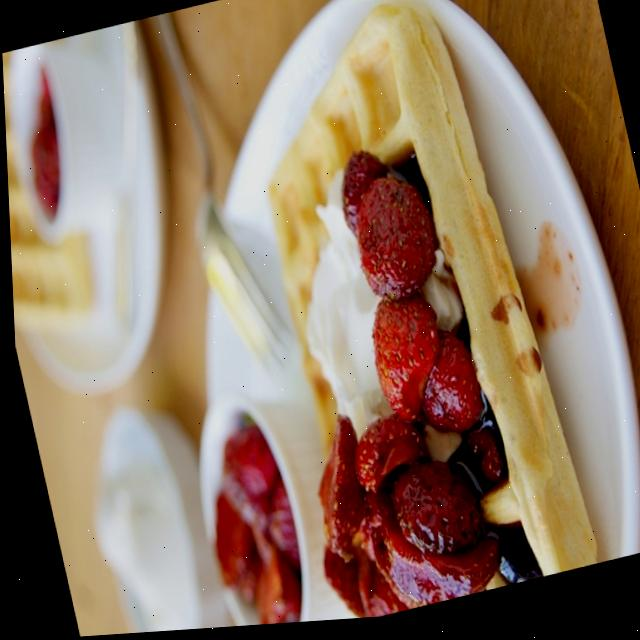炸货点心: (9, 0, 640, 640)
蛋糕甜品: (9, 0, 640, 640)
